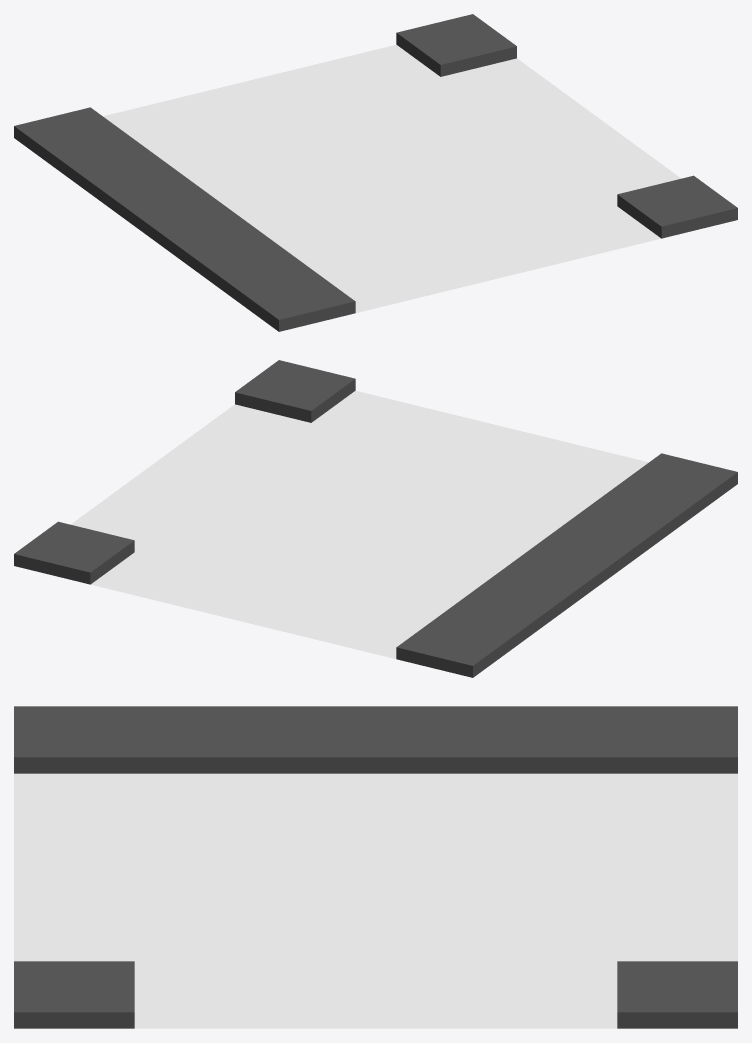
Rendered from RoadT.fbx.
3 renders of one model, top to bottom at view 1: azimuth 30°, elevation 25°; view 2: azimuth 150°, elevation 25°; view 3: azimuth 270°, elevation 25°, orthographic. The views are drawn at different scales.
Visible parts, largest first — view 1: Road_T_Corner; view 2: Road_T_Corner; view 3: Road_T_Corner.
Boxes of the visible parts, x1=… form: Road_T_Corner: x1=14, y1=14, x2=737, y2=331; Road_T_Corner: x1=14, y1=360, x2=737, y2=677; Road_T_Corner: x1=14, y1=706, x2=737, y2=1028.
Size of the model in its own units: 1600 by 40 by 1600.
